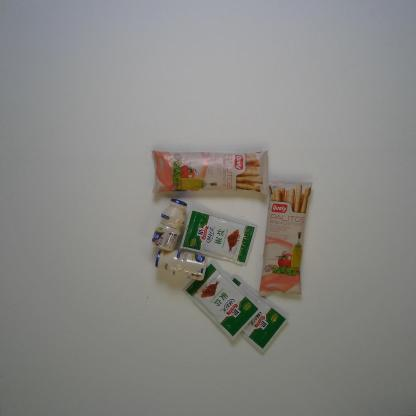Dessert: (259, 179, 313, 296), (150, 148, 269, 196)
Milk: (151, 198, 188, 252), (154, 247, 208, 281)
Seasoner: (182, 260, 260, 342), (226, 274, 290, 356), (179, 209, 260, 266)
